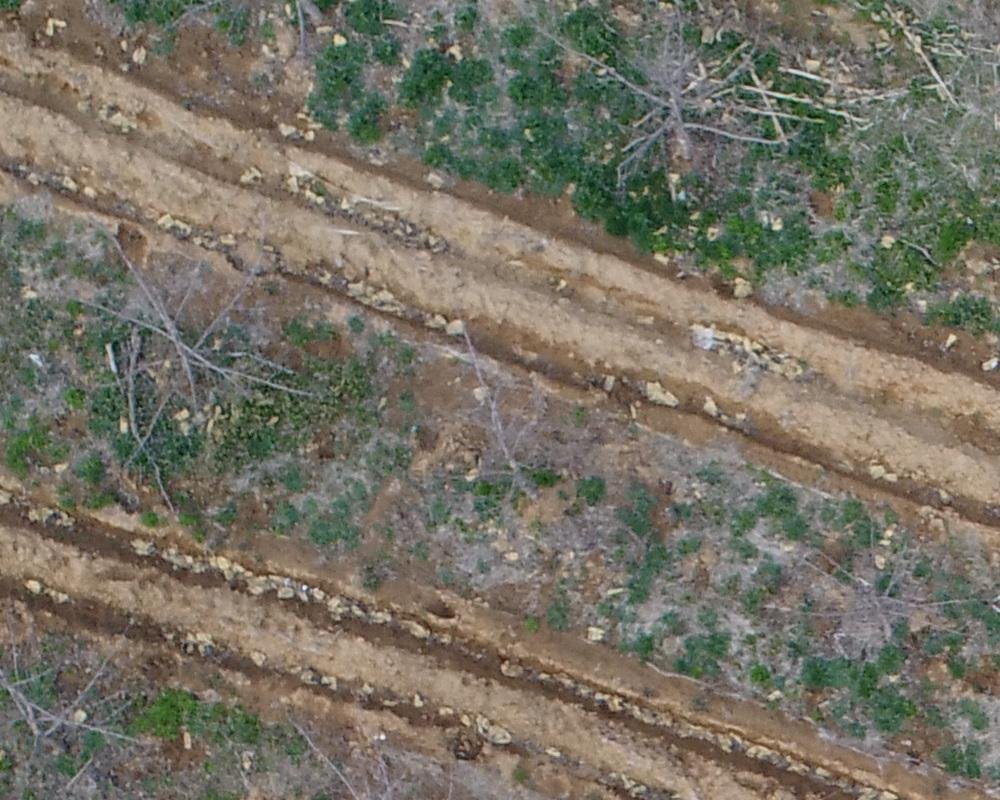apple: (47, 225, 331, 449), (531, 13, 832, 190), (770, 513, 990, 719), (428, 335, 590, 540), (10, 596, 181, 790)
